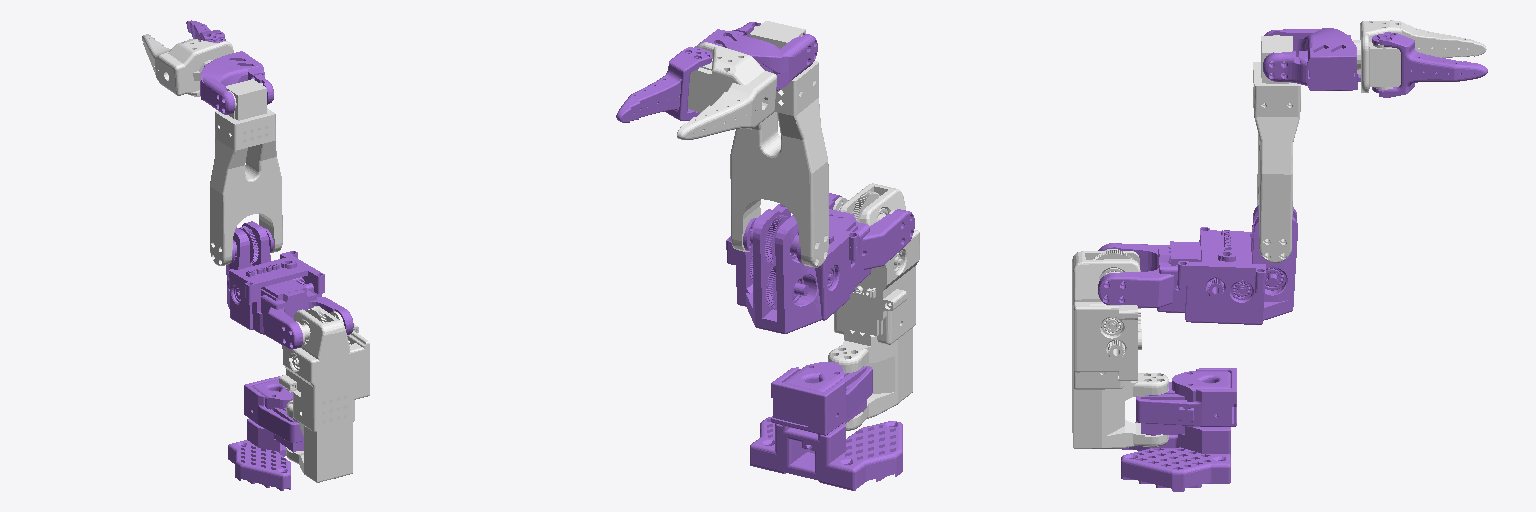
URDF robot description (soarmoce_urdf):
<?xml version='1.0' encoding='utf-8'?>
<robot name="soarmoce_urdf">

  <material name="white">
    <color rgba="0.95 0.95 0.95 1.0"/>
  </material>
  <material name="light_purple">
    <color rgba="0.7 0.5 0.9 1.0"/> </material>

  <link name="base">
    <inertial>
      <origin xyz="-0.0213710291112311 0.00673783911516032 -0.00351495988159654" rpy="0 0 0" />
      <mass value="0.184824839118779" />
      <inertia ixx="0.00014009159032767" ixy="5.14519314311599E-07" ixz="-2.19658664772978E-09" iyy="0.000150786507732308" iyz="-2.12017725499654E-05" izz="0.000176488838164293" />
    </inertial>
    <visual>
      <origin xyz="0 0 0" rpy="0 0 0" />
      <geometry>
        <mesh filename="../meshes/base.STL" />
      </geometry>
      <material name="light_purple" /> </visual>
    <collision>
      <origin xyz="0 0 0" rpy="0 0 0" />
      <geometry>
        <mesh filename="../meshes/base.STL" />
      </geometry>
    </collision>
  </link>

  <link name="shoulder">
    <inertial>
      <origin xyz="0.00431599372955423 -0.0391066695085737 0.0394888931376483" rpy="0 0 0" />
      <mass value="0.330894394655736" />
      <inertia ixx="0.000505546415051645" ixy="1.59518610653644E-06" ixz="-2.12499303650484E-05" iyy="0.000517530931668442" iyz="2.19651351970439E-05" izz="0.000127646885959192" />
    </inertial>
    <visual>
      <origin xyz="0 0 0" rpy="0 0 0" />
      <geometry>
        <mesh filename="../meshes/shoulder.STL" />
      </geometry>
      <material name="white" /> </visual>
    <collision>
      <origin xyz="0 0 0" rpy="0 0 0" />
      <geometry>
        <mesh filename="../meshes/shoulder.STL" />
      </geometry>
    </collision>
  </link>

  <joint name="shoulder" type="revolute">
    <origin xyz="-0.021301 -0.019892 0.030313" rpy="0 0 0" />
    <parent link="base" />
    <child link="shoulder" />
    <axis xyz="0 0 -1" />
    <limit lower="-1.80000000" upper="1.80000000" effort="0" velocity="0" />
  </joint>

  <link name="shoulder_lift">
    <inertial>
      <origin xyz="-0.00324515070732309 0.0871957526382336 -0.0192601707678897" rpy="0 0 0" />
      <mass value="0.318710272679807" />
      <inertia ixx="0.000385454470204287" ixy="1.03441801394726E-05" ixz="-4.42203916060576E-06" iyy="0.000148614476916783" iyz="-4.60533290521661E-06" izz="0.000351054172172908" />
    </inertial>
    <visual>
      <origin xyz="0 0 0" rpy="0 0 0" />
      <geometry>
        <mesh filename="../meshes/shoulder_lift.STL" />
      </geometry>
      <material name="light_purple" /> </visual>
    <collision>
      <origin xyz="0 0 0" rpy="0 0 0" />
      <geometry>
        <mesh filename="../meshes/shoulder_lift.STL" />
      </geometry>
    </collision>
  </link>

  <joint name="shoulder_lift" type="revolute">
    <origin xyz="0.023908 -0.031327 0.098856" rpy="3.141593 1.570793 -3.112889" />
    <parent link="shoulder" />
    <child link="shoulder_lift" />
    <axis xyz="0 0 1" />
    <limit lower="-1.30000000" upper="1.30000000" effort="0" velocity="0" />
  </joint>

  <link name="elbow">
    <inertial>
      <origin xyz="-0.0832422888745699 0.0012113725012361 -0.0229169222713259" rpy="0 0 0" />
      <mass value="0.196597009085825" />
      <inertia ixx="7.92771752202201E-05" ixy="2.84545189052244E-06" ixz="-9.55291703398484E-07" iyy="0.000273362808050137" iyz="1.45502230872918E-08" izz="0.000221473559394089" />
    </inertial>
    <visual>
      <origin xyz="0 0 0" rpy="0 0 0" />
      <geometry>
        <mesh filename="../meshes/elbow.STL" />
      </geometry>
      <material name="white" /> </visual>
    <collision>
      <origin xyz="0 0 0" rpy="0 0 0" />
      <geometry>
        <mesh filename="../meshes/elbow.STL" />
      </geometry>
    </collision>
  </link>

  <joint name="elbow" type="revolute">
    <origin xyz="-0.036111 0.12717 0.0005" rpy="0 0 0" />
    <parent link="shoulder_lift" />
    <child link="elbow" />
    <axis xyz="0 0 1" />
    <limit lower="-1.30000000" upper="1.30000000" effort="0" velocity="0" />
  </joint>

  <link name="wrist">
    <inertial>
      <origin xyz="-0.0353175824991667 9.81394374997002E-05 -0.0115136241068137" rpy="0 0 0" />
      <mass value="0.0706755636018164" />
      <inertia ixx="2.50939659898496E-05" ixy="8.58894507660815E-08" ixz="1.80285269647734E-06" iyy="3.5303799120401E-05" iyz="-1.3972021213463E-08" izz="1.99042479760721E-05" />
    </inertial>
    <visual>
      <origin xyz="0 0 0" rpy="0 0 0" />
      <geometry>
        <mesh filename="../meshes/wrist.STL" />
      </geometry>
      <material name="light_purple" /> </visual>
    <collision>
      <origin xyz="0 0 0" rpy="0 0 0" />
      <geometry>
        <mesh filename="../meshes/wrist.STL" />
      </geometry>
    </collision>
  </link>

  <joint name="wrist" type="revolute">
    <origin xyz="-0.152980 0.002177 -0.003775" rpy="0.000000 0.000000 -1.570796" />
    <parent link="elbow" />
    <child link="wrist" />
    <axis xyz="0 0 1" />
    <limit lower="-1.30000000" upper="1.31000000" effort="0" velocity="0" />
  </joint>

  <link name="wrist_roll">
    <inertial>
      <origin xyz="-0.00534613057929257 0.000346192094794529 0.0265827947892246" rpy="0 0 0" />
      <mass value="0.0950264154360078" />
      <inertia ixx="4.26677683482621E-05" ixy="1.12540757127494E-06" ixz="6.80533672926815E-06" iyy="4.97447971463551E-05" iyz="-6.51926853197085E-07" izz="3.08661473876812E-05" />
    </inertial>
    <visual>
      <origin xyz="0 0 0" rpy="0 0 0" />
      <geometry>
        <mesh filename="../meshes/wrist_roll.STL" />
      </geometry>
      <material name="white" /> </visual>
    <collision>
      <origin xyz="0 0 0" rpy="0 0 0" />
      <geometry>
        <mesh filename="../meshes/wrist_roll.STL" />
      </geometry>
    </collision>
  </link>

  <joint name="wrist_roll" type="revolute">
    <origin xyz="-0.061125 -0.00012939 -0.01895" rpy="0 -1.5708 0" />
    <parent link="wrist" />
    <child link="wrist_roll" />
    <axis xyz="0 0 -1" />
    <limit lower="-1.30000000" upper="1.30000000" effort="0" velocity="0" />
  </joint>

  <link name="gripper">
    <inertial>
      <origin xyz="0.0285152293814781 -0.0095219501591718 -0.0201256423347853" rpy="0 0 0" />
      <mass value="0.0206924066827897" />
      <inertia ixx="3.97506525437174E-06" ixy="2.37013710361177E-06" ixz="-1.80060833370411E-07" iyy="1.06886637310619E-05" iyz="5.98671833426615E-08" izz="9.11569538825076E-06" />
    </inertial>
    <visual>
      <origin xyz="0 0 0" rpy="0 0 0" />
      <geometry>
        <mesh filename="../meshes/gripper.STL" />
      </geometry>
      <material name="light_purple" /> </visual>
    <collision>
      <origin xyz="0 0 0" rpy="0 0 0" />
      <geometry>
        <mesh filename="../meshes/gripper.STL" />
      </geometry>
    </collision>
  </link>

  <joint name="gripper" type="revolute">
    <origin xyz="0.018466 -0.020147 0.023375" rpy="-1.5708 -1.5492 3.0625" />
    <parent link="wrist_roll" />
    <child link="gripper" />
    <axis xyz="0 0 -1" />
    <limit lower="-0.50000000" upper="1.30000000" effort="0" velocity="0" />
  </joint>
</robot>

--- Facts derived from the render (not from the file) ---
3 views of the same robot in one strip: view 1: azimuth 30°, elevation 25°; view 2: azimuth 150°, elevation 25°; view 3: azimuth 270°, elevation 25° (orthographic).
Robot: soarmoce_urdf — 7 links, 6 joints (6 revolute); root link base; default pose: every joint at zero.
Links seen in each view (by area): view 1: shoulder, elbow, shoulder_lift, base, wrist_roll, wrist, gripper; view 2: shoulder_lift, base, elbow, shoulder, wrist_roll, gripper, wrist; view 3: shoulder_lift, shoulder, base, elbow, wrist, wrist_roll, gripper.
Link boxes in pixels (bbox=[...]): shoulder: bbox=[279, 306, 369, 482]; elbow: bbox=[210, 79, 282, 265]; shoulder_lift: bbox=[226, 221, 353, 349]; base: bbox=[228, 375, 335, 490]; wrist_roll: bbox=[142, 34, 233, 96]; wrist: bbox=[200, 51, 273, 114]; gripper: bbox=[186, 20, 225, 42]; shoulder_lift: bbox=[726, 193, 914, 333]; base: bbox=[750, 362, 902, 490]; elbow: bbox=[730, 21, 828, 267]; shoulder: bbox=[828, 183, 919, 430]; wrist_roll: bbox=[677, 42, 776, 139]; gripper: bbox=[616, 47, 711, 122]; wrist: bbox=[694, 22, 817, 90]; shoulder_lift: bbox=[1098, 205, 1297, 324]; shoulder: bbox=[1072, 249, 1168, 448]; base: bbox=[1121, 368, 1236, 491]; elbow: bbox=[1253, 35, 1300, 262]; wrist: bbox=[1263, 28, 1360, 90]; wrist_roll: bbox=[1353, 20, 1486, 92]; gripper: bbox=[1372, 32, 1487, 97].
Size in the robot's own frame: 0.1109 by 0.3284 by 0.378 metres.
7 mesh visuals loaded from 7 distinct referenced files (7 binary STL).
